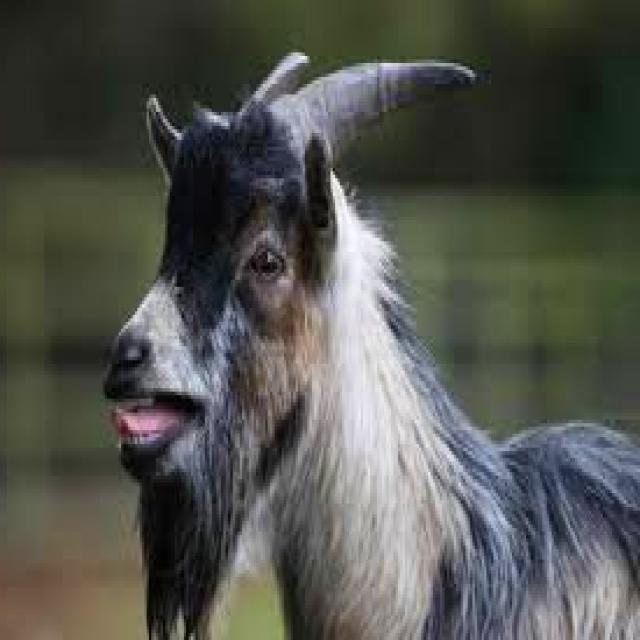goat: (107, 52, 640, 637)
